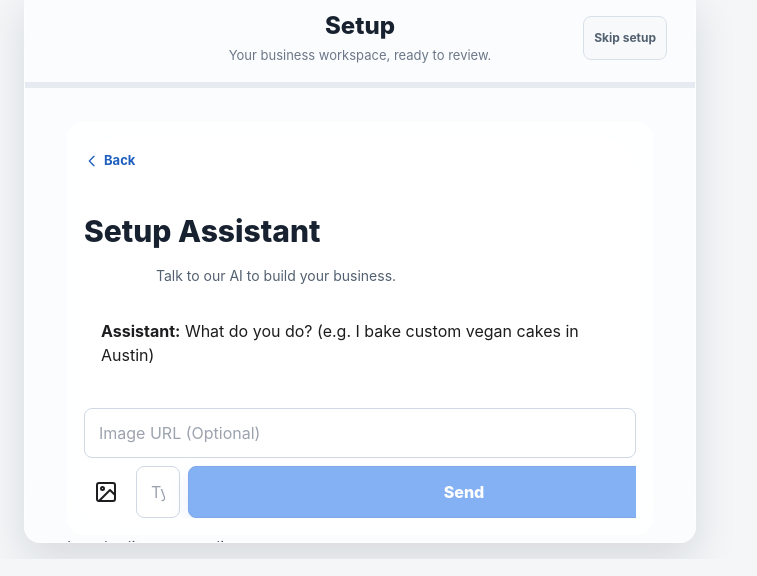
keeps the existing image-only request eligible without inventing chat text
This screenshot has width=757, height=576.
Expected: the field with placeholder "Type a message..." is shown, [136,466,180,518]
Click the button named "Upload Image" at (106, 492), box [84,466,128,518]
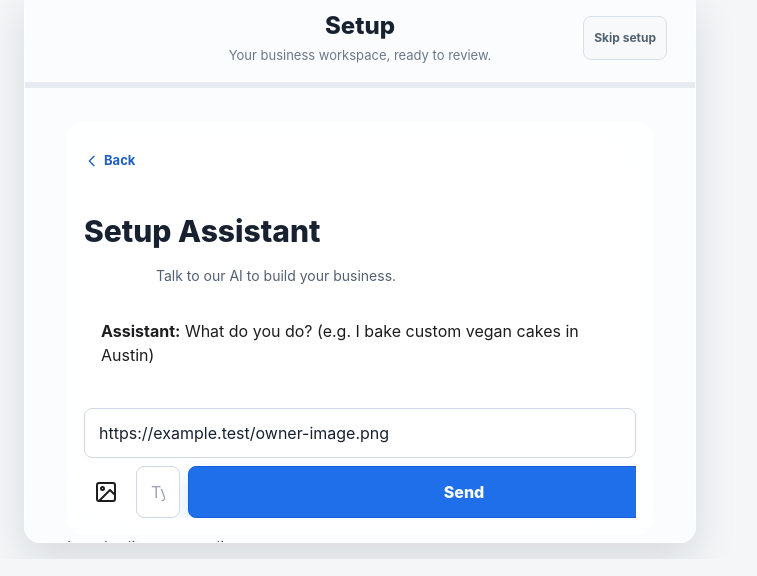
Now the button "Send" is enabled, box [188,466,636,518]
Click the button "Send" at (464, 492), box [188,466,740,518]
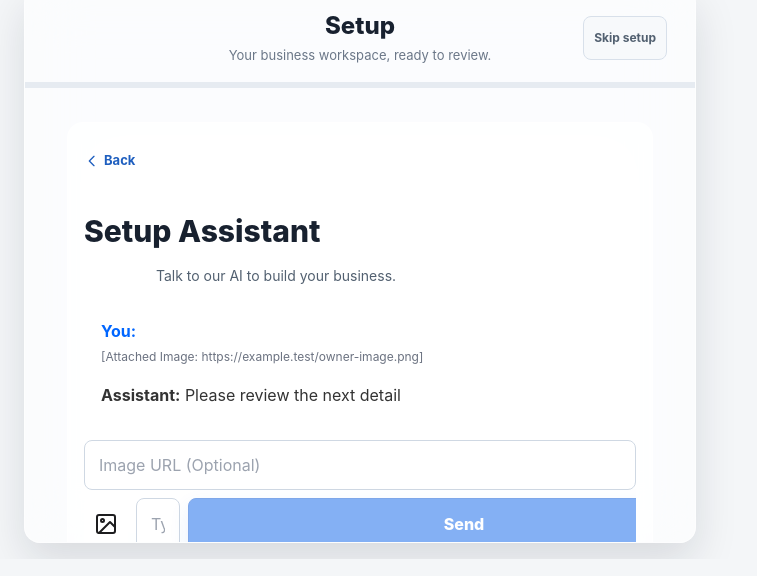
Now the text "Please review the next detail" is shown, box [185,385,401,405]
Now the button "Send" is disabled, box [188,498,636,542]
